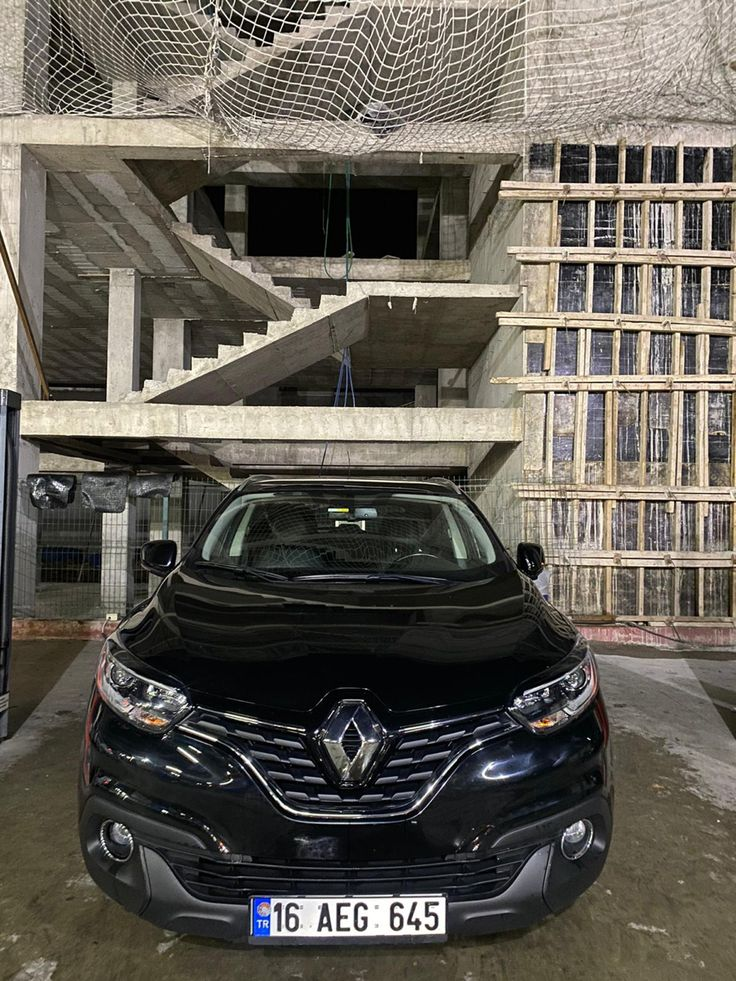plate: (244, 893, 451, 946)
